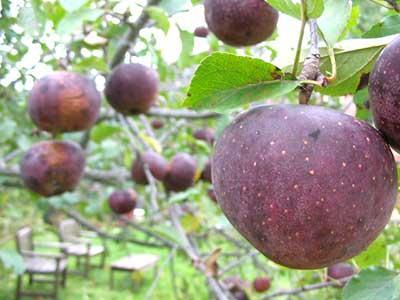apple: (212, 106, 396, 269), (27, 72, 101, 136), (103, 62, 159, 114)
